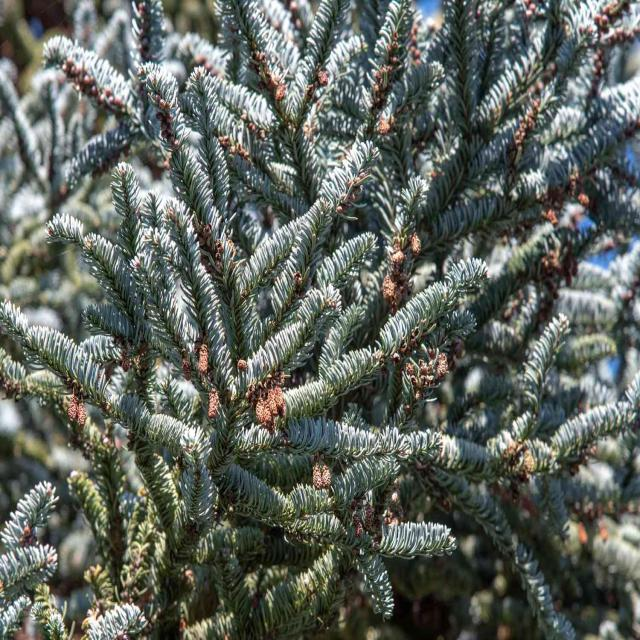Abies: (64, 4, 562, 566)
